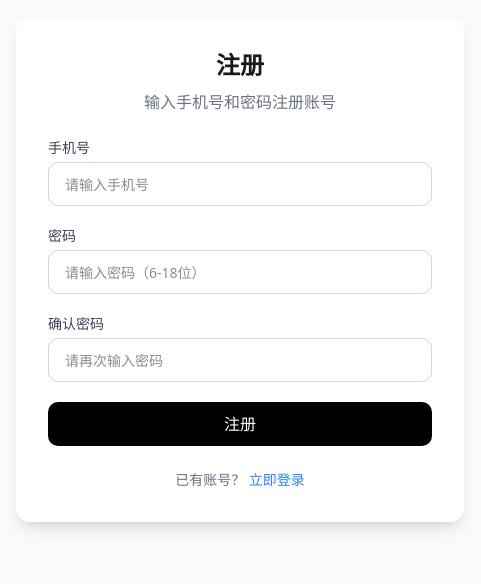
Test: RegisterPage › 空表单提交显示校验错误
Click the button "注册": (240, 424) [48,402,432,446]
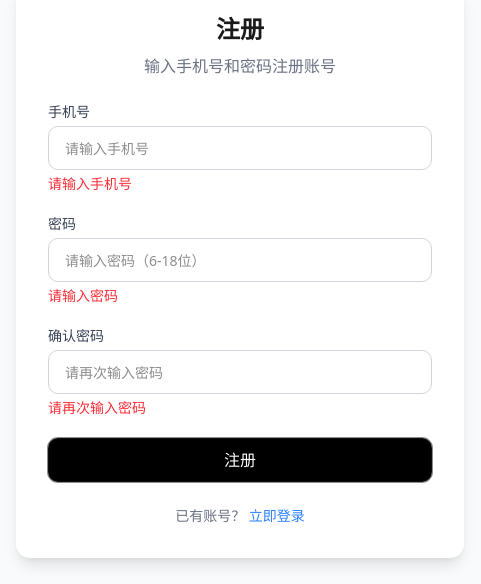
Expected: the text "请输入手机号" is shown, [48,174,132,193]
Expected: the text "请输入密码" is shown, [48,286,118,305]
Expected: the text "请再次输入密码" is shown, [48,398,146,417]
